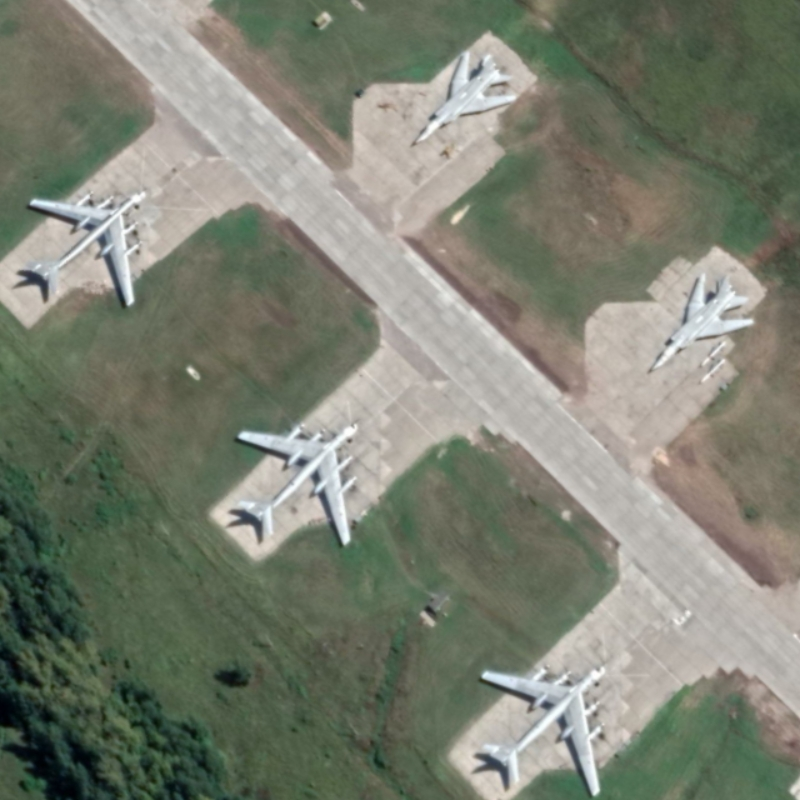A12: (647, 270, 757, 373), (413, 49, 519, 146)
A17: (478, 663, 608, 800), (235, 421, 361, 549), (26, 189, 148, 310)
